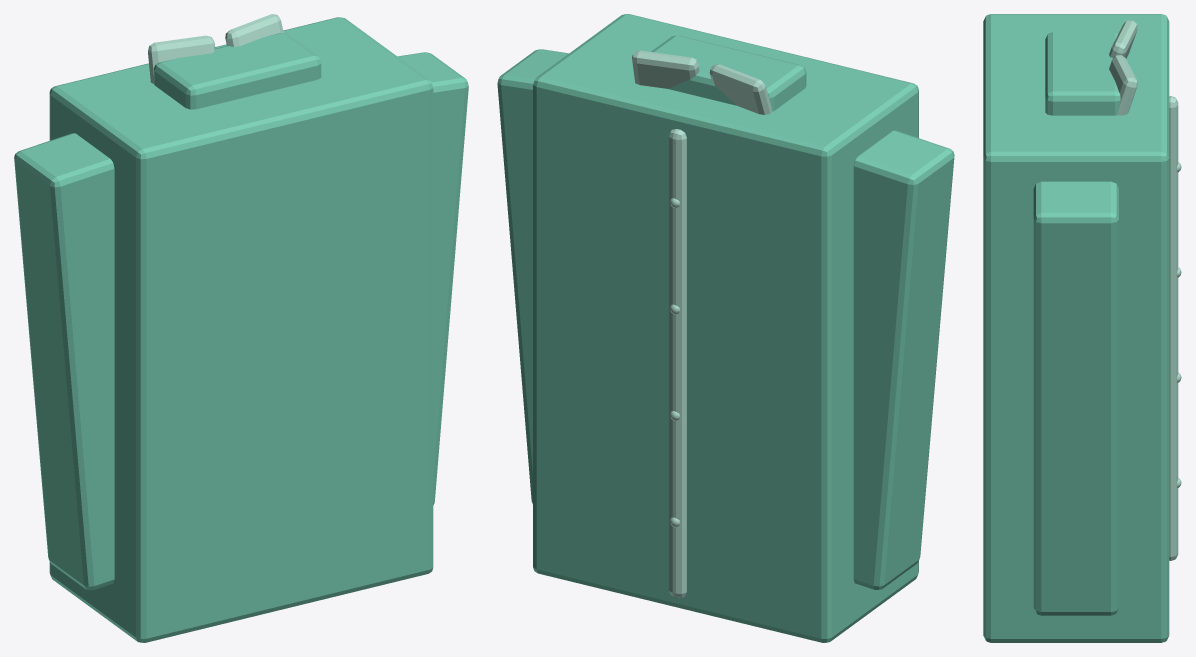
File: VM-CAB-FS2.glb
3 views of the same model, side by side, from view 1: azimuth 30°, elevation 25°; view 2: azimuth 150°, elevation 25°; view 3: azimuth 270°, elevation 25° (orthographic).
Visible parts, largest first — view 1: Camisa Hombre Casual Slim; view 2: Camisa Hombre Casual Slim; view 3: Camisa Hombre Casual Slim.
Part boxes in pixels (x1,y1,x2,y2): Camisa Hombre Casual Slim: [14, 14, 468, 642]; Camisa Hombre Casual Slim: [497, 14, 954, 642]; Camisa Hombre Casual Slim: [983, 14, 1181, 642].
Size of the model in its own units: 0.6968 by 0.8407 by 0.2876.
